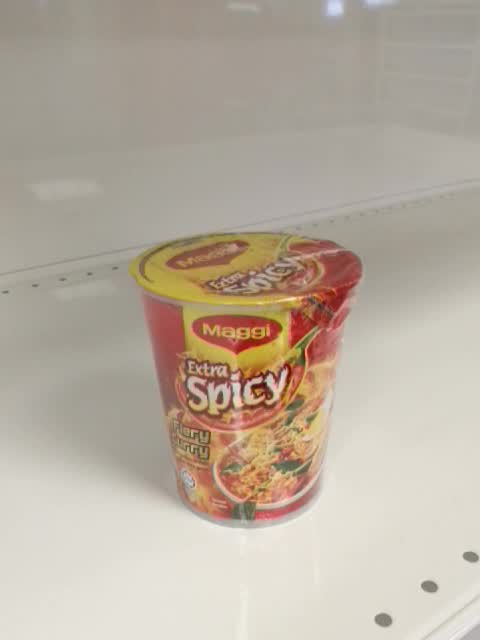maggi: (127, 231, 363, 530)
